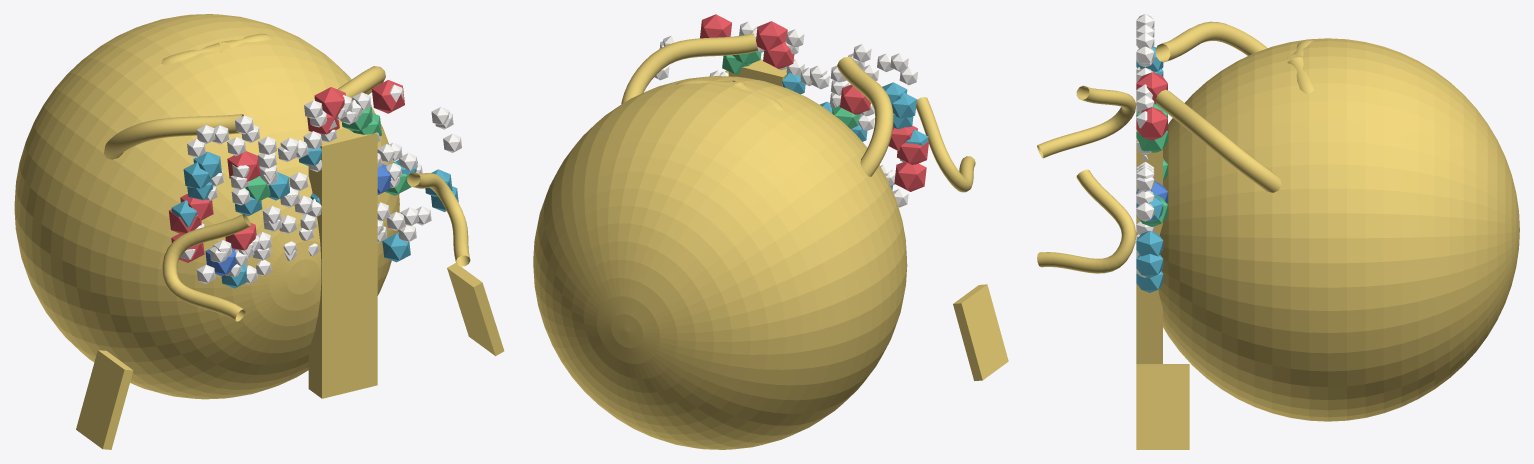
File: phoenix-crown.glb
The picture shows the model from 3 angles, left to right: view 1: azimuth 30°, elevation 25°; view 2: azimuth 150°, elevation 25°; view 3: azimuth 270°, elevation 25°; orthographic projection. The views are drawn at different scales.
Parts seen in each view (by area): view 1: Sphere, Cube, Cube.004, phoenix.001, Cube.001, drag.001, phoenix, Cube.005, Cube.006, drag, topdragon, Icosphere.119 (+5 smaller); view 2: Sphere, Cube.004, drag, drag.001, phoenix.001, Cube, Icosphere.108, Icosphere.113, Icosphere.114, Icosphere.119, Icosphere.106, Icosphere.117 (+2 smaller); view 3: Sphere, Cube.001, phoenix, drag, Cube, phoenix.001, drag.001, Cube.003, Icosphere.119, topdragon, Icosphere.005, Icosphere.012 (+1 smaller).
Part boxes in pixels (bbox=[...]): Sphere: bbox=[14, 14, 399, 399]; Cube: bbox=[308, 128, 377, 398]; Cube.004: bbox=[76, 350, 133, 449]; phoenix.001: bbox=[162, 214, 250, 321]; Cube.001: bbox=[447, 263, 504, 356]; drag.001: bbox=[104, 114, 243, 159]; phoenix: bbox=[407, 172, 470, 266]; Cube.005: bbox=[76, 354, 121, 447]; Cube.006: bbox=[77, 370, 132, 448]; drag: bbox=[337, 66, 385, 100]; topdragon: bbox=[161, 33, 272, 64]; Icosphere.119: bbox=[371, 80, 404, 113]; Sphere: bbox=[533, 76, 907, 449]; Cube.004: bbox=[953, 284, 1008, 380]; drag: bbox=[621, 33, 757, 104]; drag.001: bbox=[837, 56, 893, 176]; phoenix.001: bbox=[916, 97, 975, 192]; Cube: bbox=[728, 59, 786, 86]; Icosphere.108: bbox=[894, 162, 926, 191]; Icosphere.113: bbox=[756, 21, 787, 51]; Icosphere.114: bbox=[840, 84, 870, 114]; Icosphere.119: bbox=[700, 14, 731, 38]; Icosphere.106: bbox=[763, 41, 794, 68]; Icosphere.117: bbox=[897, 141, 928, 164]; Sphere: bbox=[1158, 38, 1519, 421]; Cube.001: bbox=[1136, 364, 1189, 449]; phoenix: bbox=[1037, 169, 1136, 273]; drag: bbox=[1155, 89, 1281, 192]; Cube: bbox=[1136, 130, 1162, 363]; phoenix.001: bbox=[1037, 85, 1136, 158]; drag.001: bbox=[1155, 21, 1267, 62]; Cube.003: bbox=[1136, 366, 1188, 449]; Icosphere.119: bbox=[1136, 107, 1167, 140]; topdragon: bbox=[1287, 39, 1313, 94]; Icosphere.005: bbox=[1136, 230, 1163, 256]; Icosphere.012: bbox=[1136, 254, 1163, 277].
Bounding box in the file's own units: 0.8664 × 0.7223 × 0.9061.
